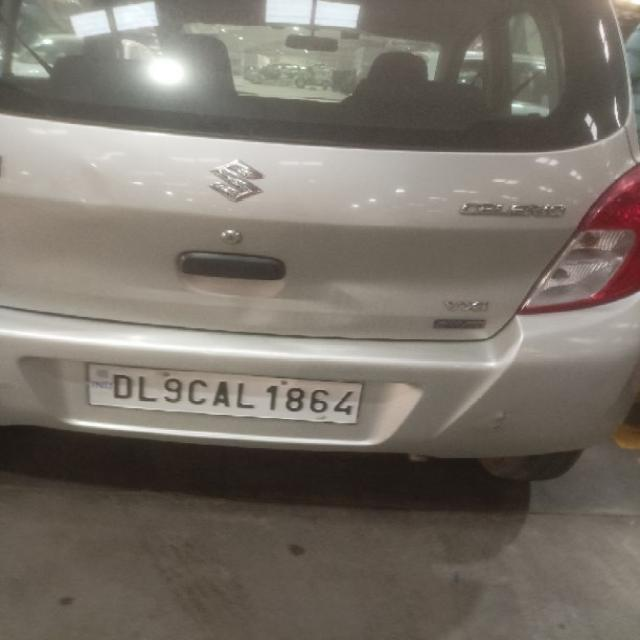license_plate: (84, 361, 364, 424)
